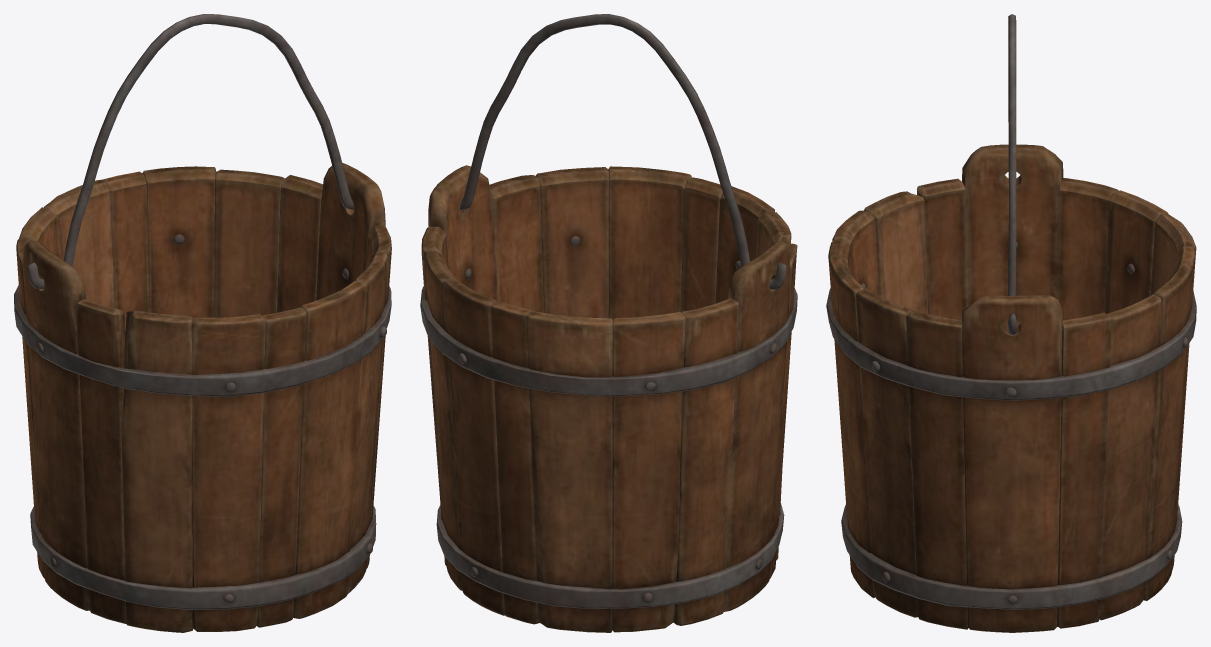
Rendered from wooden_bucket_01_512.gltf.
The picture shows the model from 3 angles, left to right: view 1: azimuth 30°, elevation 25°; view 2: azimuth 150°, elevation 25°; view 3: azimuth 270°, elevation 25°; orthographic projection.
Visible parts, largest first — view 1: wooden_bucket_01, wooden_bucket_01_handle; view 2: wooden_bucket_01, wooden_bucket_01_handle; view 3: wooden_bucket_01, wooden_bucket_01_handle.
Part boxes in pixels (bbox=[...]): wooden_bucket_01: bbox=[14, 163, 391, 632]; wooden_bucket_01_handle: bbox=[27, 14, 354, 289]; wooden_bucket_01: bbox=[420, 165, 797, 632]; wooden_bucket_01_handle: bbox=[437, 14, 786, 289]; wooden_bucket_01: bbox=[826, 144, 1196, 632]; wooden_bucket_01_handle: bbox=[1008, 14, 1016, 335].
Bounding box in the file's own units: 0.367 × 0.5499 × 0.3422.
1 material, 1 textured.
